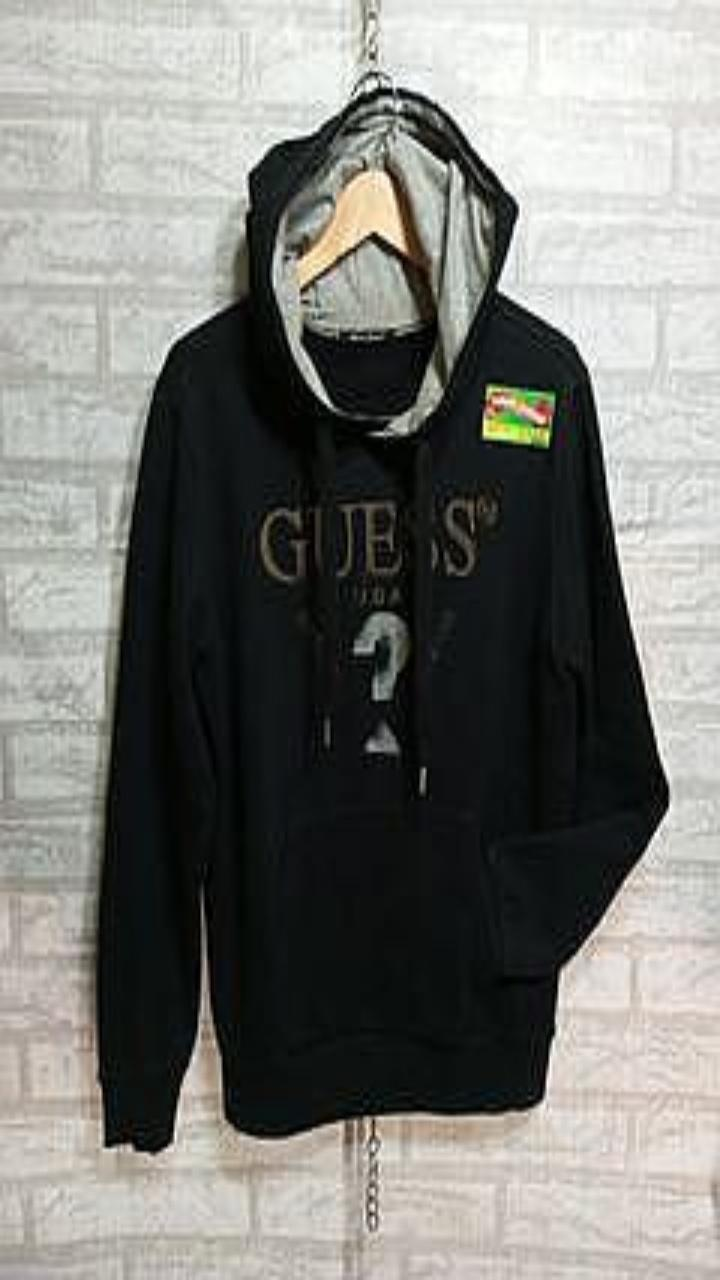Hoodie: (96, 86, 667, 1150)
